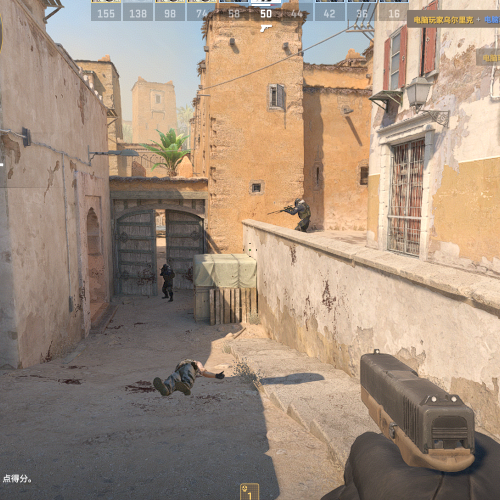ct_body: (286, 198, 311, 233), (160, 264, 175, 303)
ct_head: (293, 198, 302, 208), (162, 263, 169, 271)
